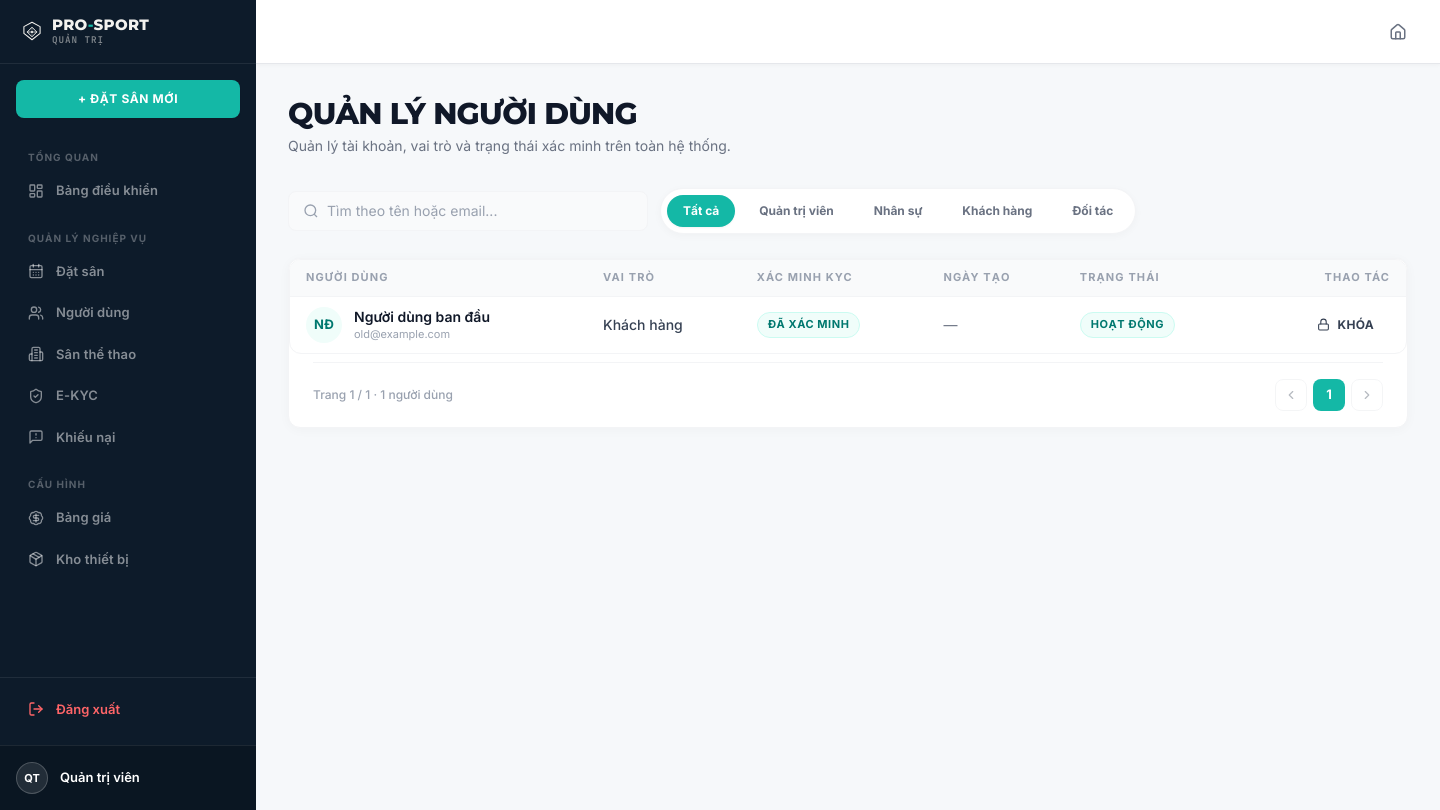
Test: AdminUsersPage › bỏ qua request tìm kiếm đã bị hủy và chỉ hiển thị kết quả mới nhất
Check: the text "Người dùng ban đầu" is shown, box [354,307,490,327]
Type "john" into the search field with placeholder "Tìm theo tên hoặc email...".
click(480, 211); type("john")  # box [327,201,633,221]
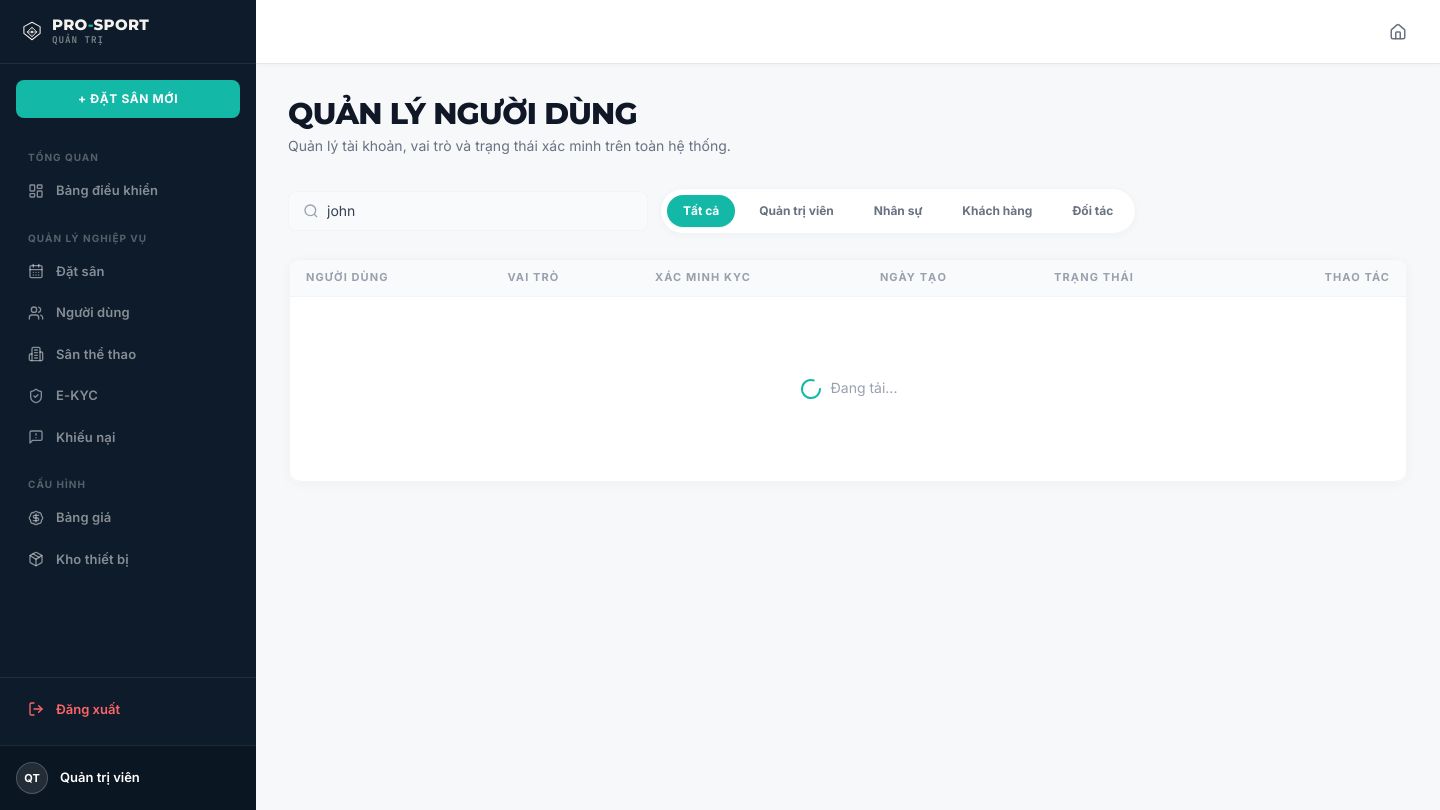
Replace the text in the search field with placeholder "Tìm theo tên hoặc email..." with "jane" at (480,211), box [327,201,633,221]
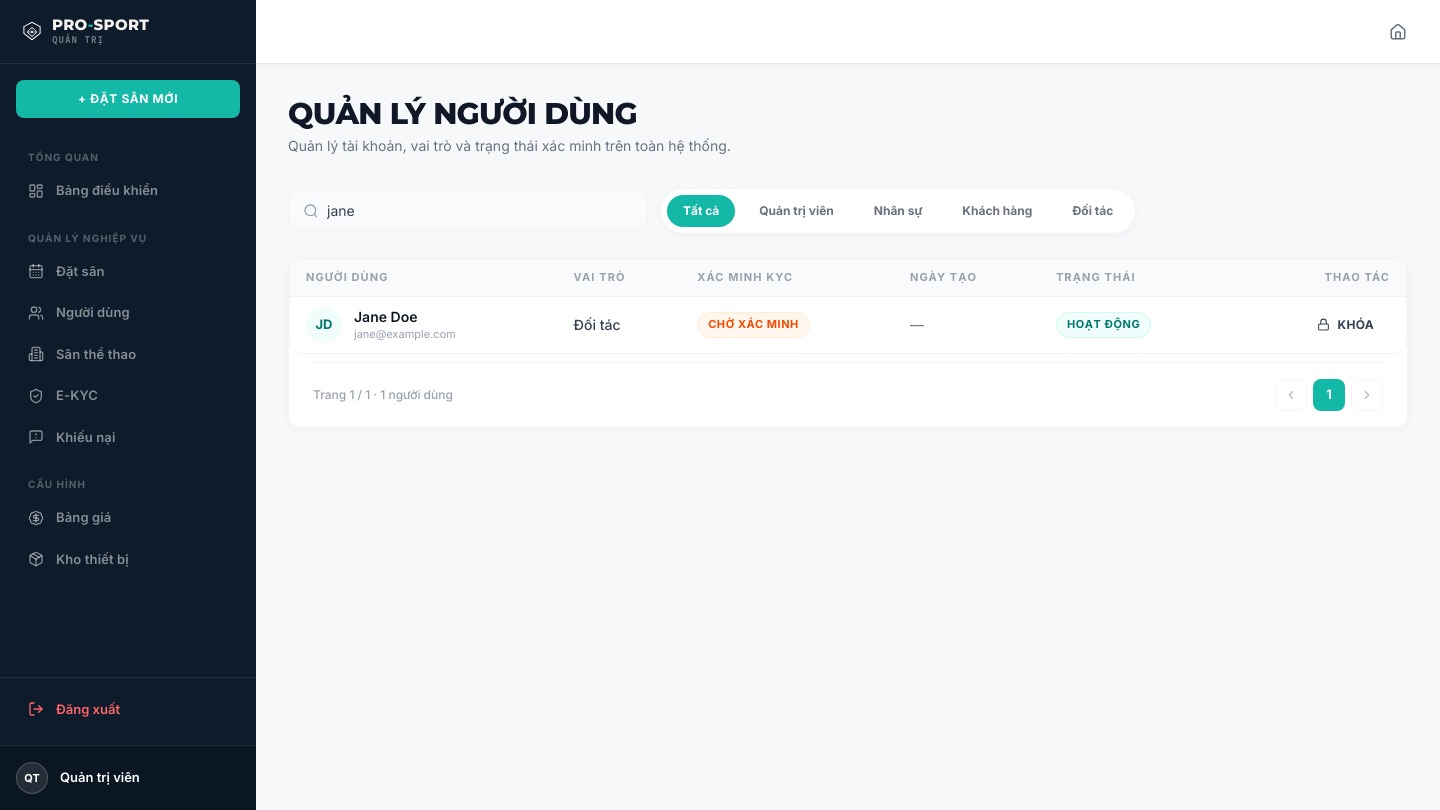
Check: the text "Người dùng ban đầu" is not shown
Check: the text "Jane Doe" is shown, box [354,308,417,325]
